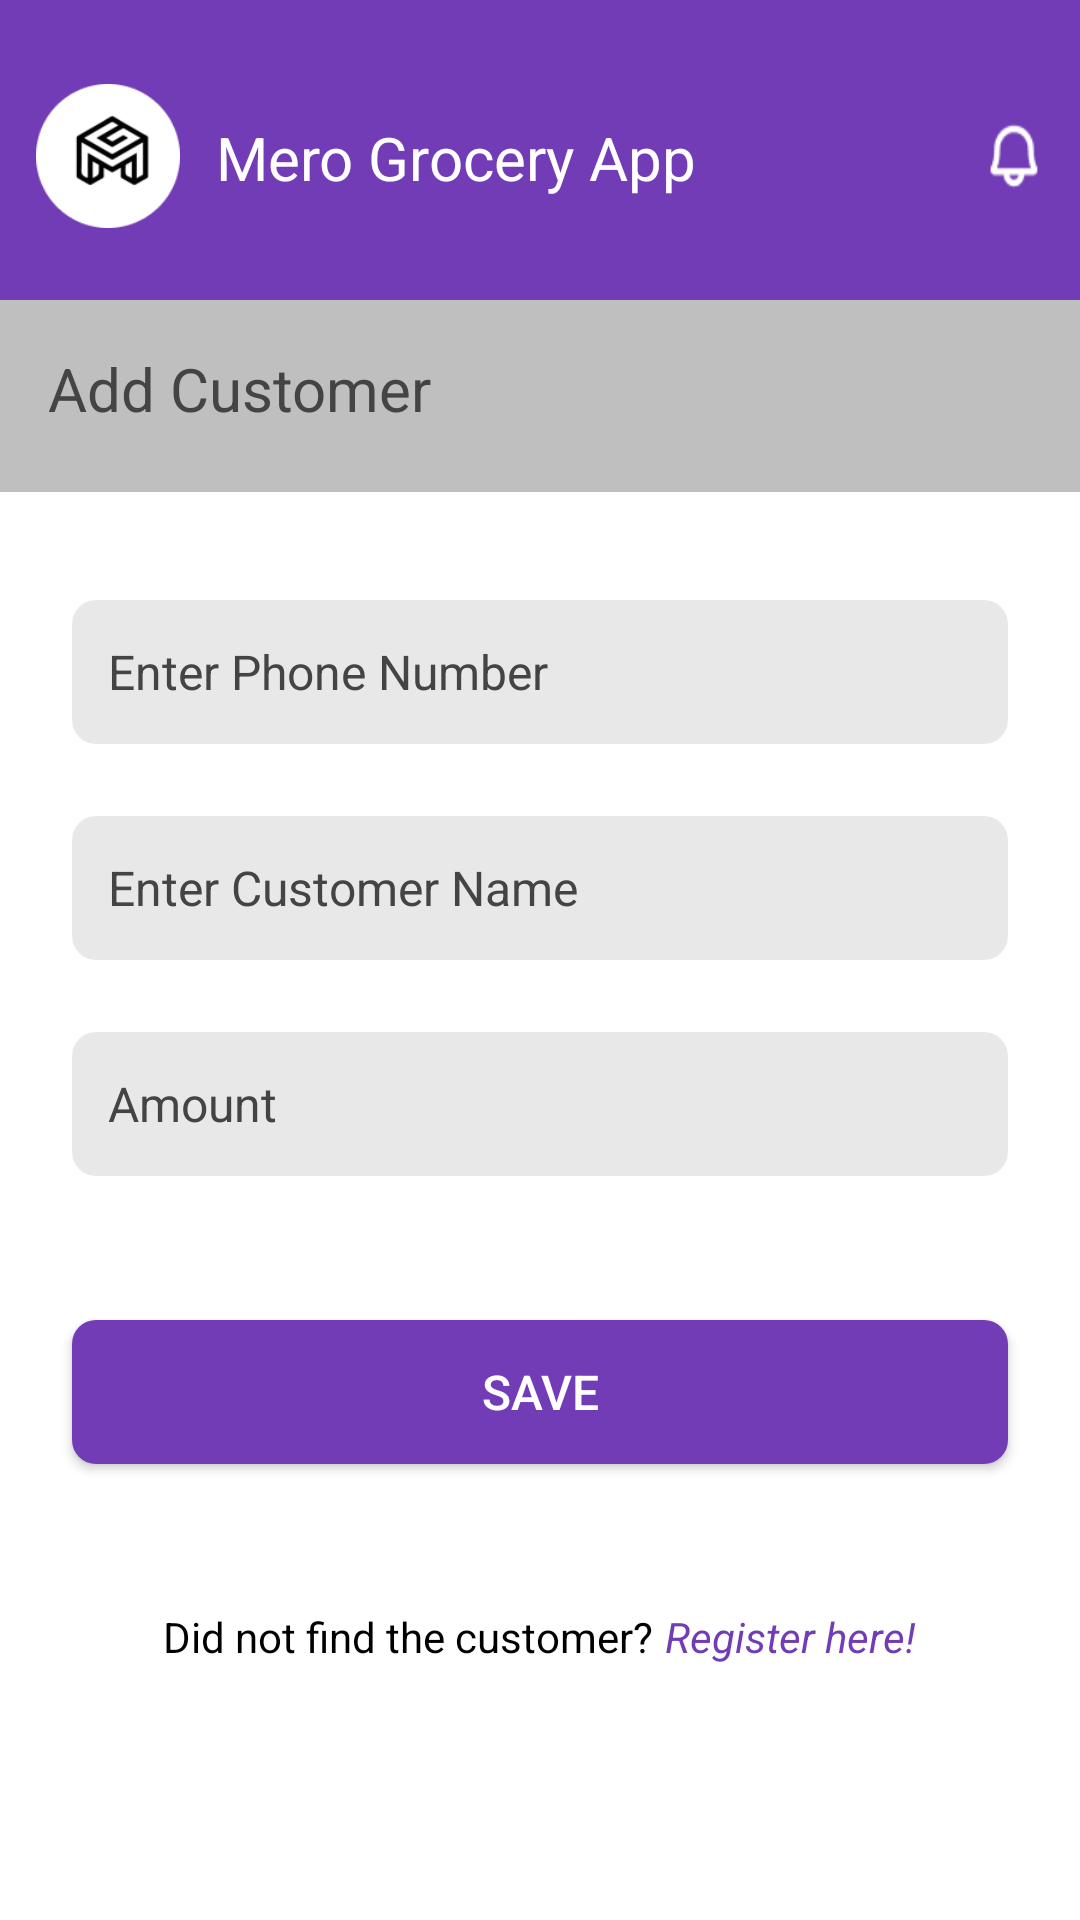

Named icons in this screenshot (1080 x 1920) and their bounding boxes, (x1, y1, x2, y2):
Notification Icon: (990, 125, 1038, 188)
